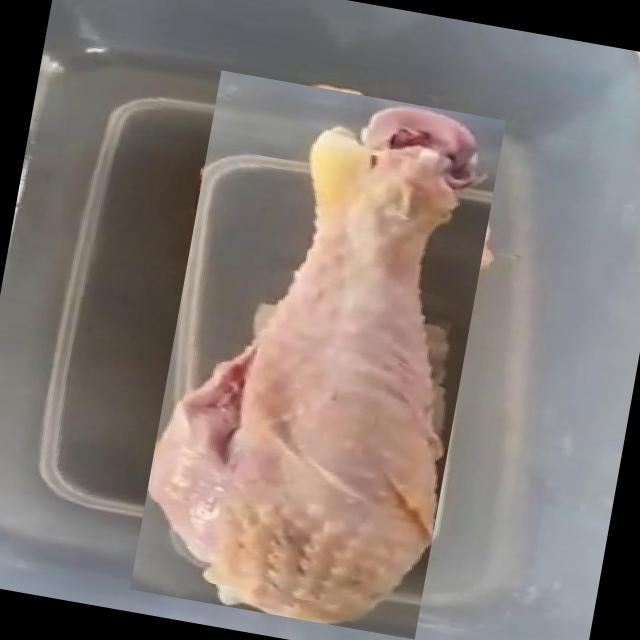chicken: (128, 69, 506, 639)
